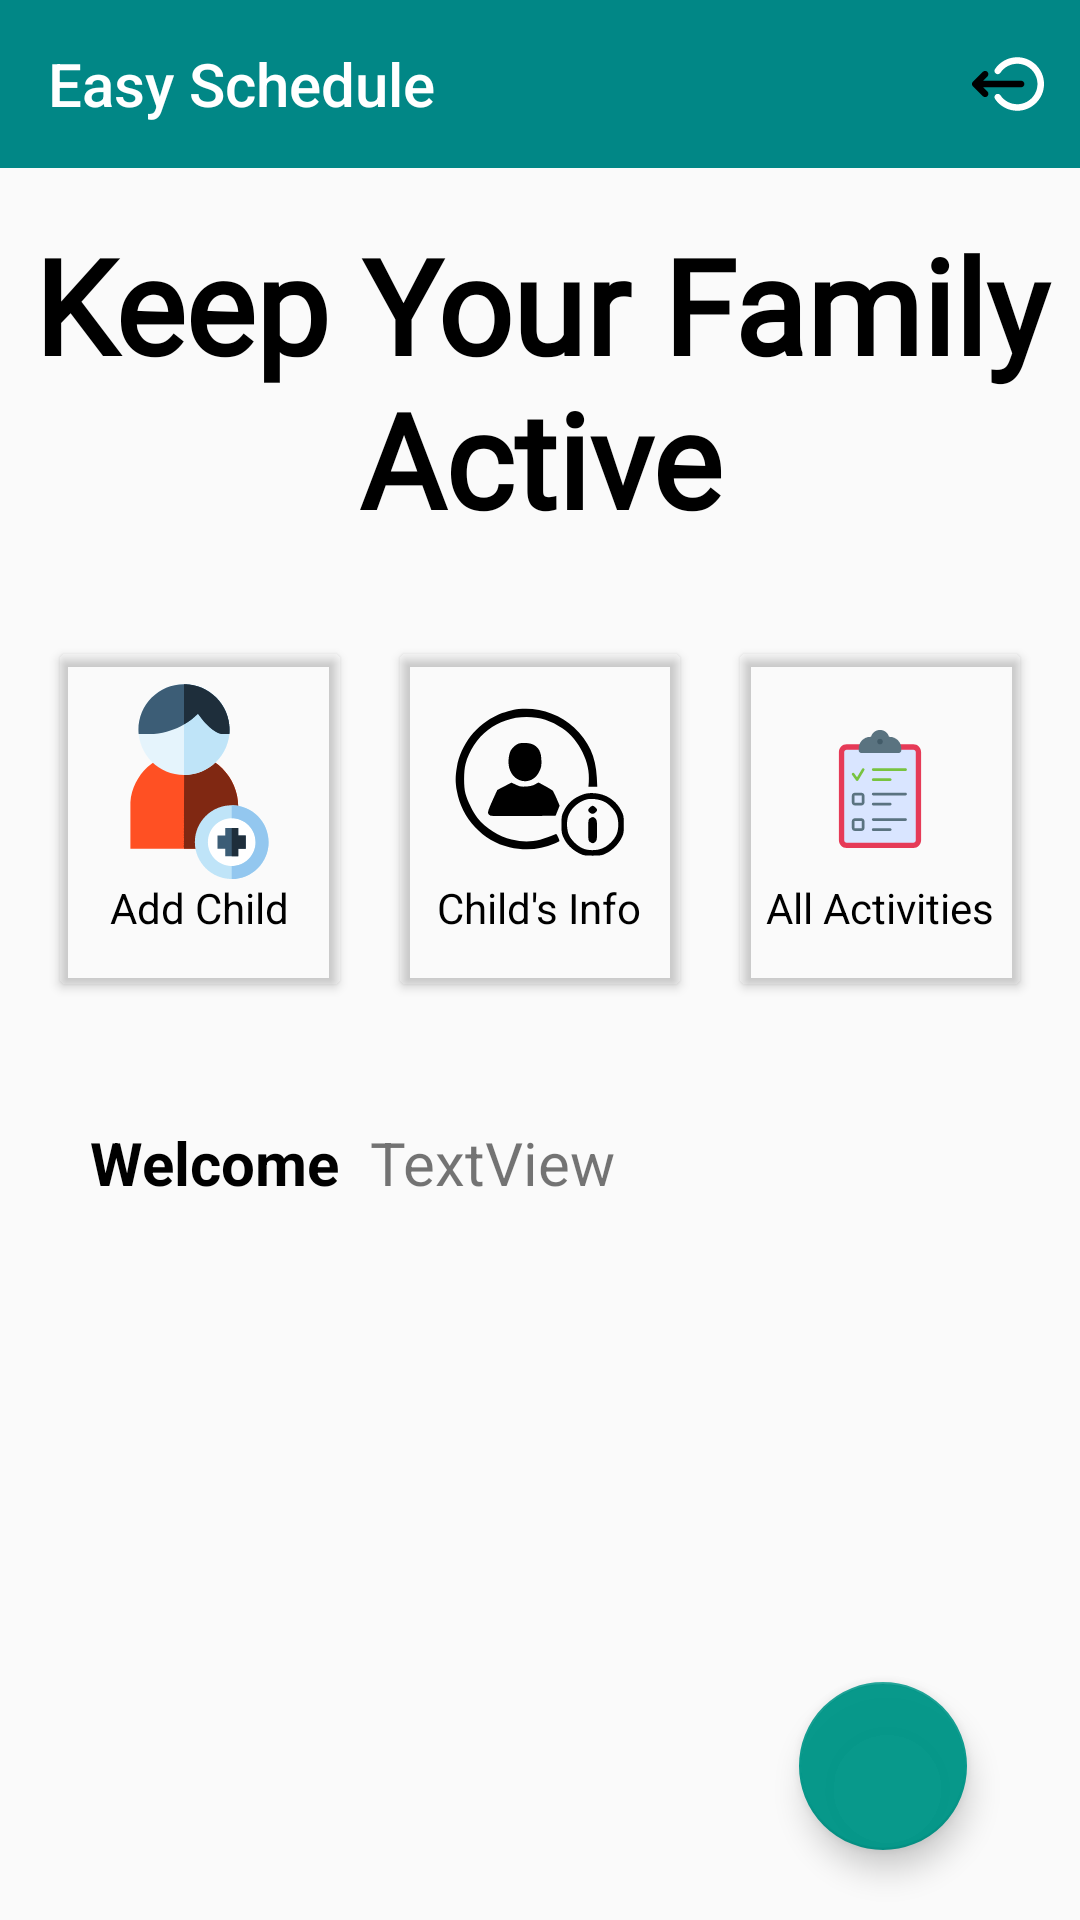

Locate icon controls on the screen. Image size 1080x1920, boxes as [x1=x1, y1=y1, x2=x2, y2=y2].
list: [x1=839, y1=730, x2=921, y2=848]
